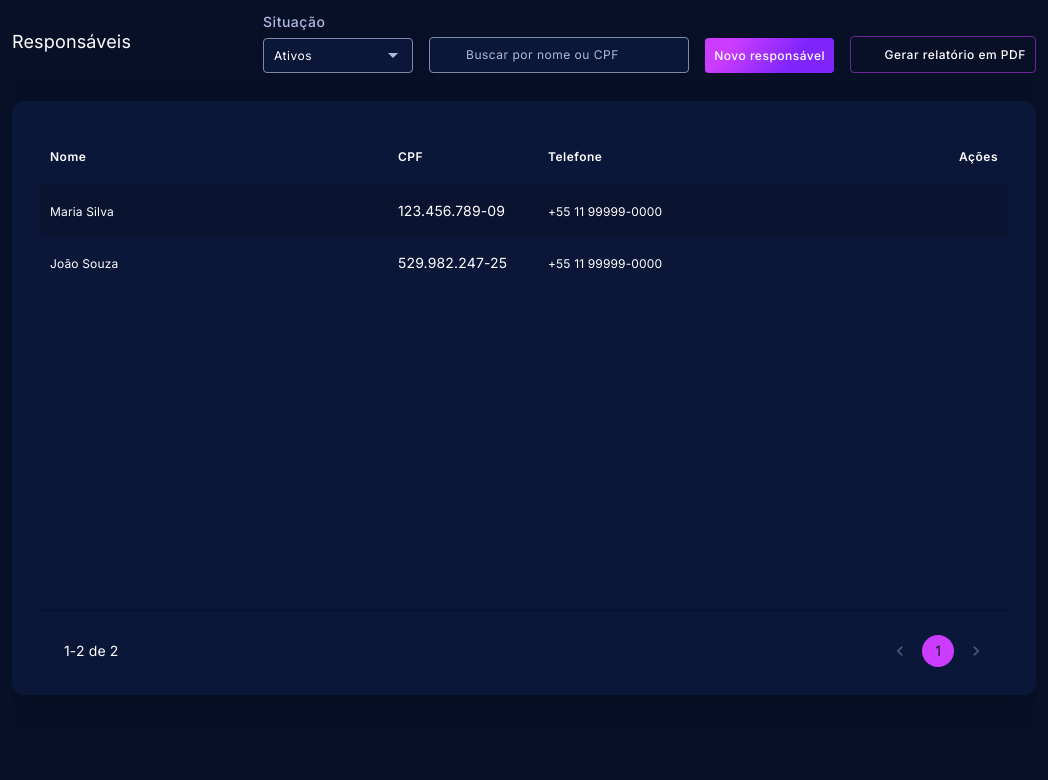
Guardians page search › says nothing was found instead of claiming the register is empty
Expected: the text "Maria Silva" is shown, [50,204,114,219]
Type "Ninguém" into the field named "buscar responsáveis".
click(572, 55); type("Ninguém")  # box [466,46,678,64]
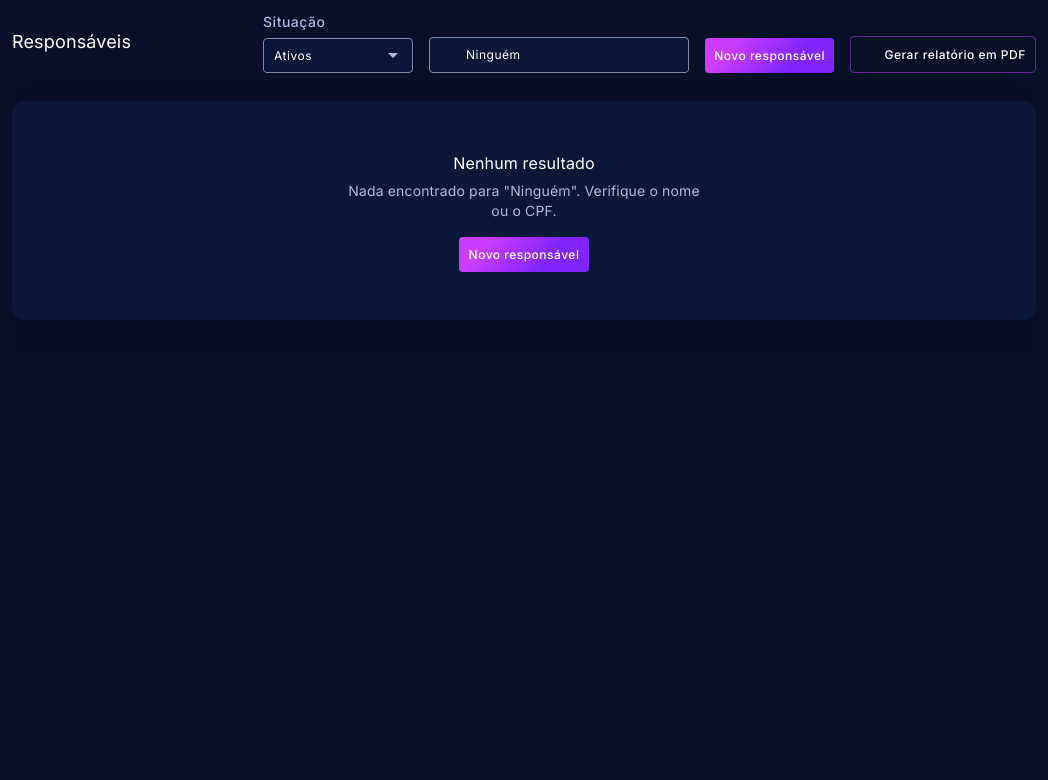
Now the text "Nenhum resultado" is shown, box [453,149,595,177]
Now the text "Nada encontrado para \"Ninguém\". Verifique o nome ou o CPF." is shown, box [344,181,704,221]
